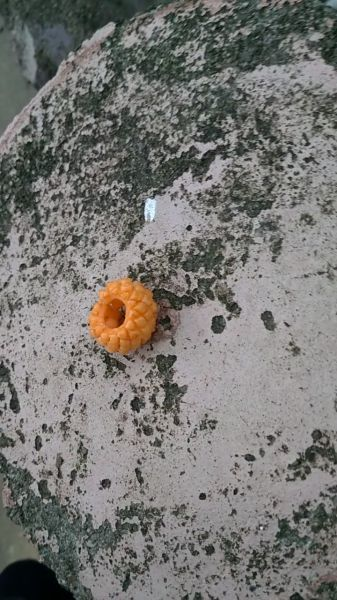eggs: (83, 272, 162, 358)
